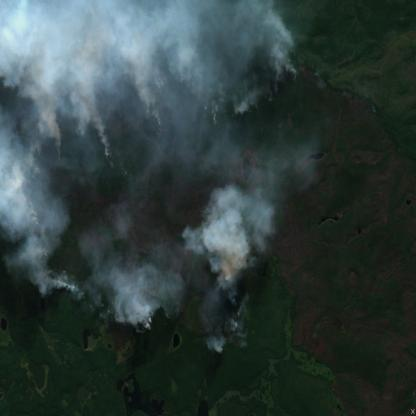fire: (14, 58, 298, 355)
